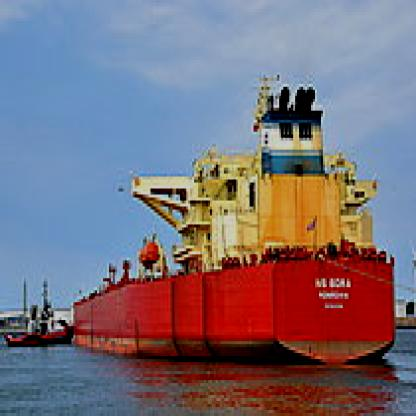Tanker: (66, 144, 396, 377)
